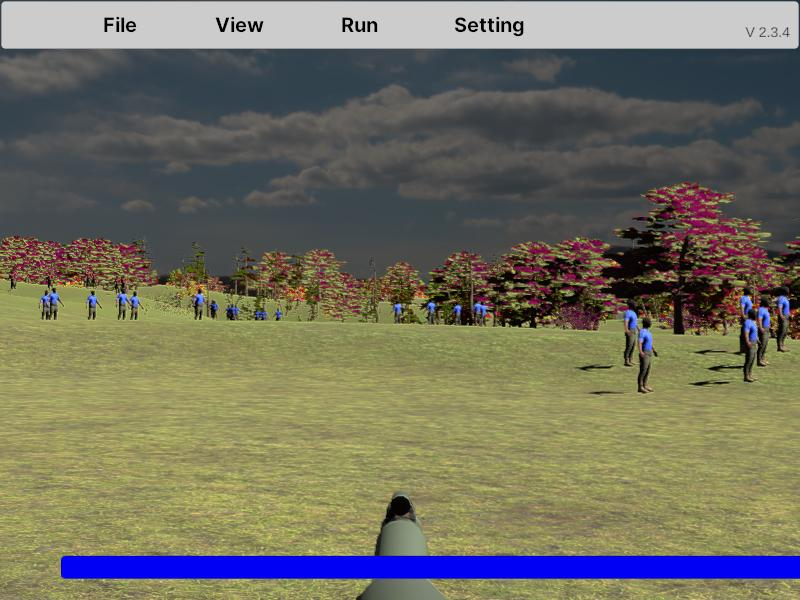Human: (742, 304, 763, 382), (638, 316, 658, 393), (624, 299, 641, 367), (775, 286, 792, 351), (757, 297, 772, 365), (86, 290, 102, 326), (48, 288, 63, 325), (116, 288, 130, 322), (129, 290, 143, 323), (39, 289, 50, 323)
